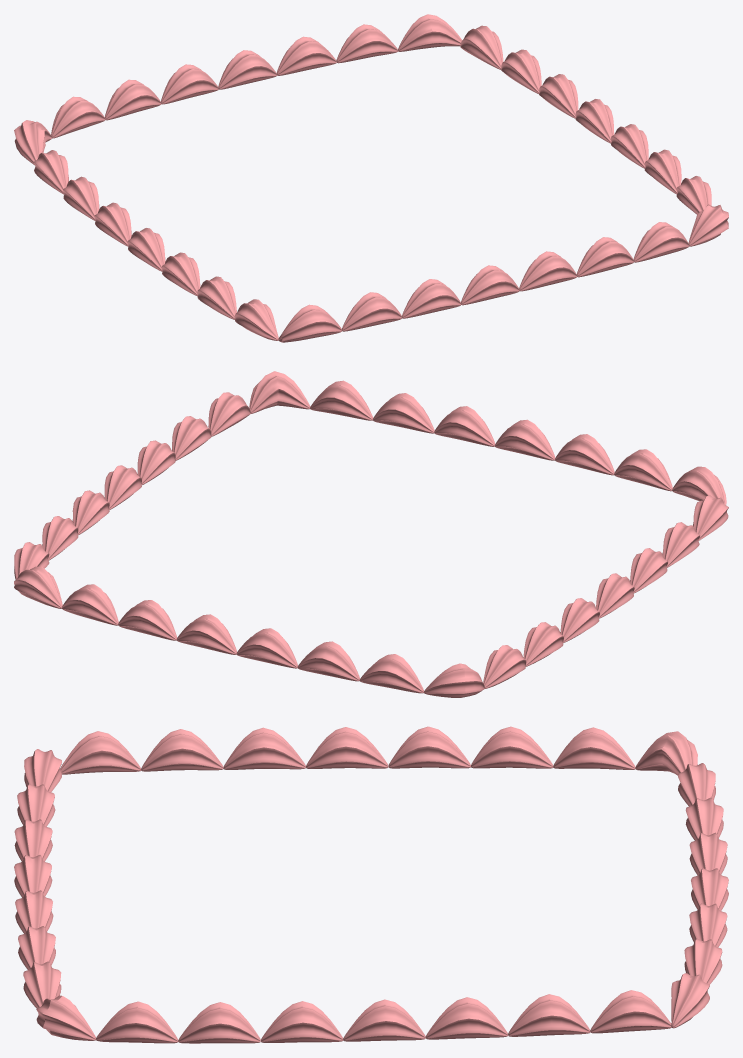
Rendered from DecoGlazePink.glb.
The picture shows the model from 3 angles, top to bottom: view 1: azimuth 30°, elevation 25°; view 2: azimuth 150°, elevation 25°; view 3: azimuth 270°, elevation 25°; orthographic projection. The views are drawn at different scales.
Visible parts, largest first — view 1: Star.029; view 2: Star.029; view 3: Star.029.
Part boxes in pixels (<box>): Star.029: <box>14,14,728,342</box>; Star.029: <box>14,371,728,697</box>; Star.029: <box>14,726,728,1043</box>.
Size of the model in its own units: 1.86 by 0.1407 by 1.91.
